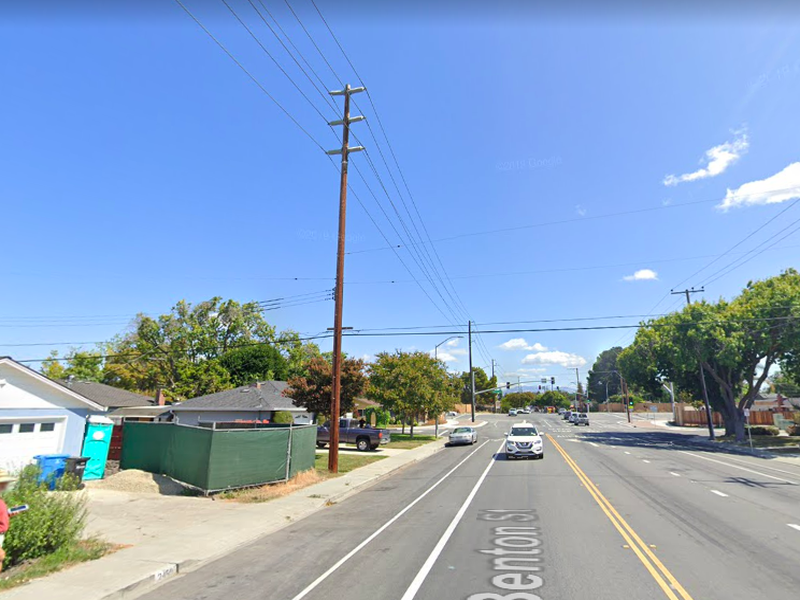tree: (616, 266, 800, 444)
utility_pole: (311, 75, 373, 180), (666, 277, 709, 305)
